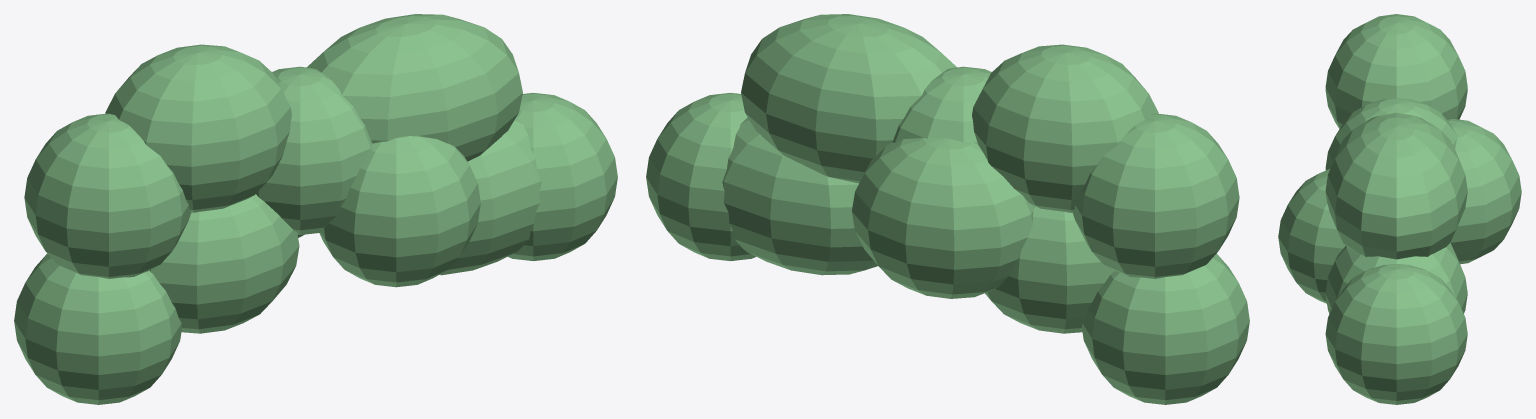
Rendered from A_Moss.fbx.
3 views of the same model, side by side, from view 1: azimuth 30°, elevation 25°; view 2: azimuth 150°, elevation 25°; view 3: azimuth 270°, elevation 25° (orthographic). The views are drawn at different scales.
Visible parts, largest first — view 1: pSphere11; view 2: pSphere11; view 3: pSphere11.
Part boxes in pixels (left/top/right/bottom): pSphere11: left=14, top=14, right=617, bottom=404; pSphere11: left=646, top=14, right=1249, bottom=404; pSphere11: left=1278, top=14, right=1521, bottom=404.
Size of the model in its own units: 28.94 by 15.24 by 12.48.
